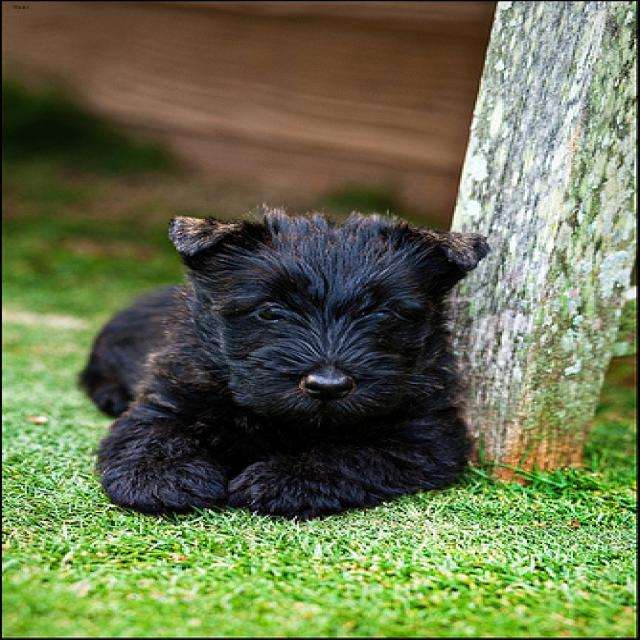dog-scottish_terrier: (57, 197, 517, 521)
